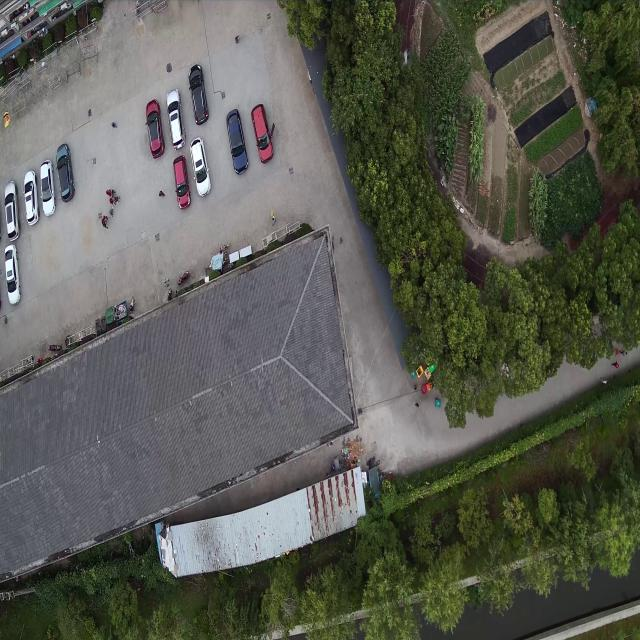UAV: (399, 48, 412, 69)
